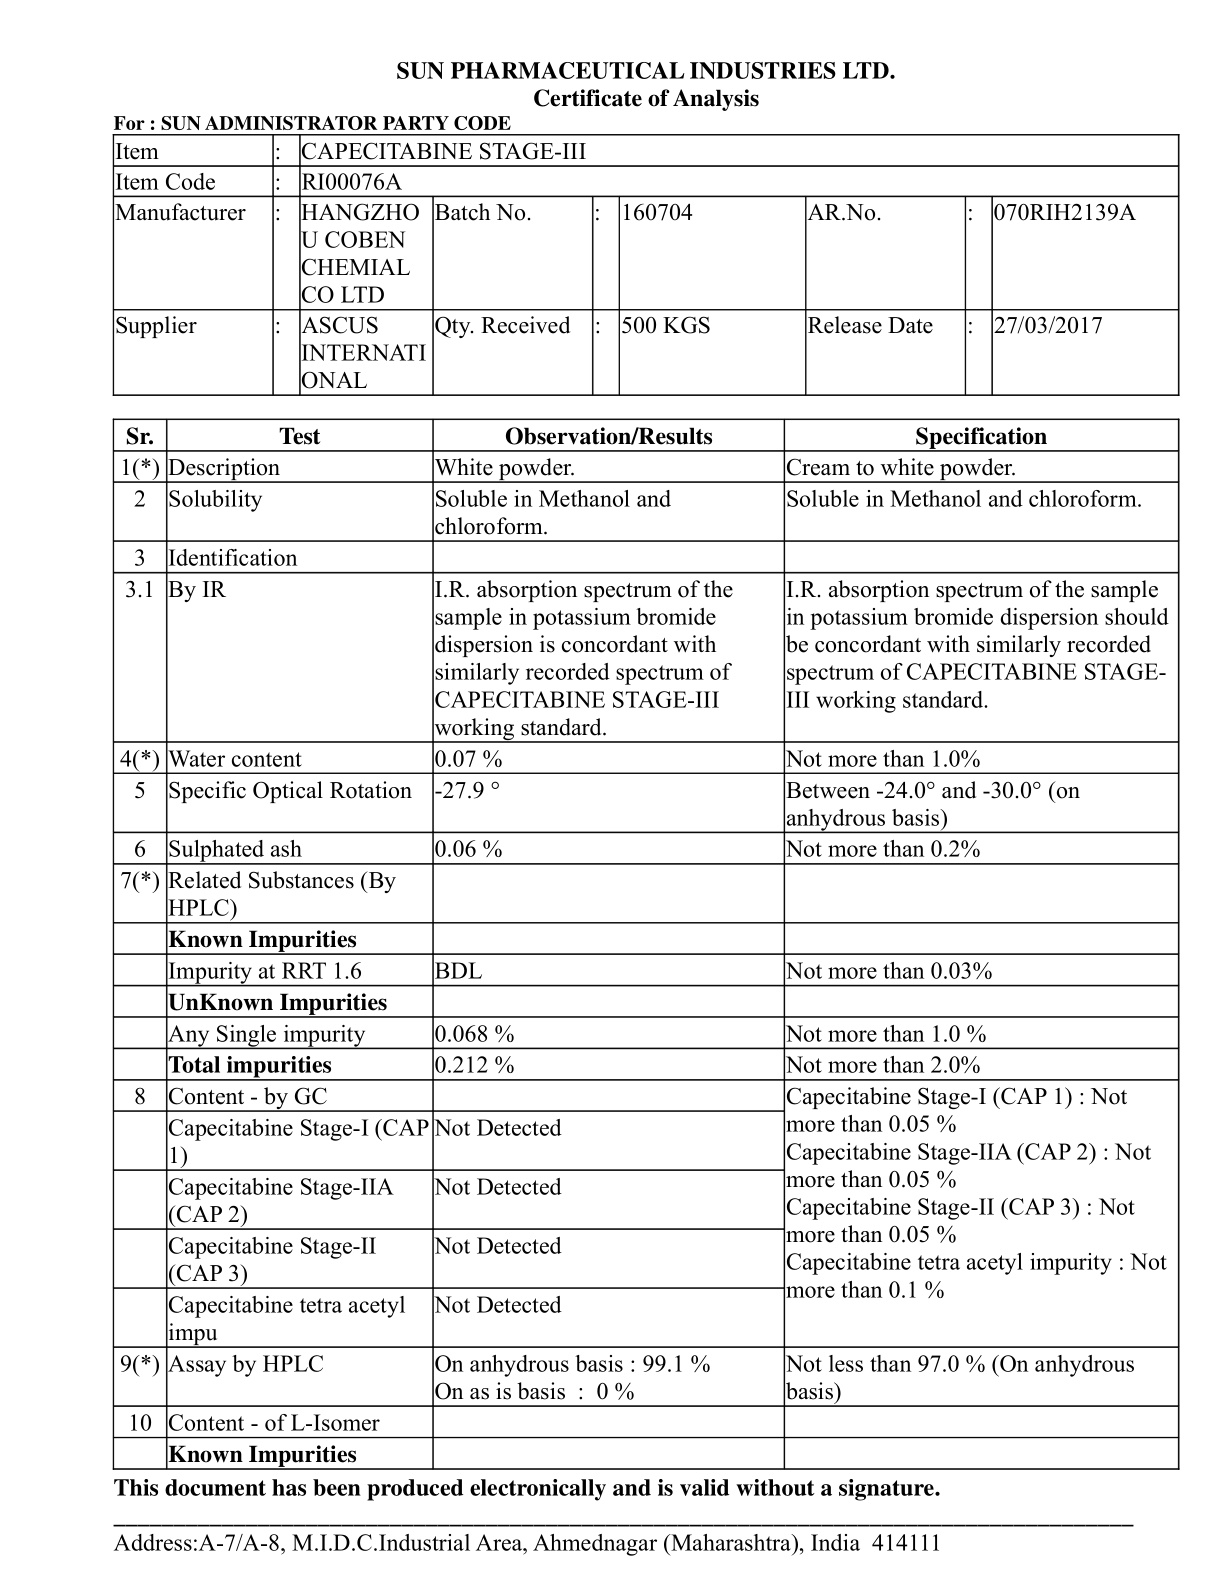full_lined: (112, 418, 1182, 1471)
merged_cells: (112, 132, 1180, 397)
